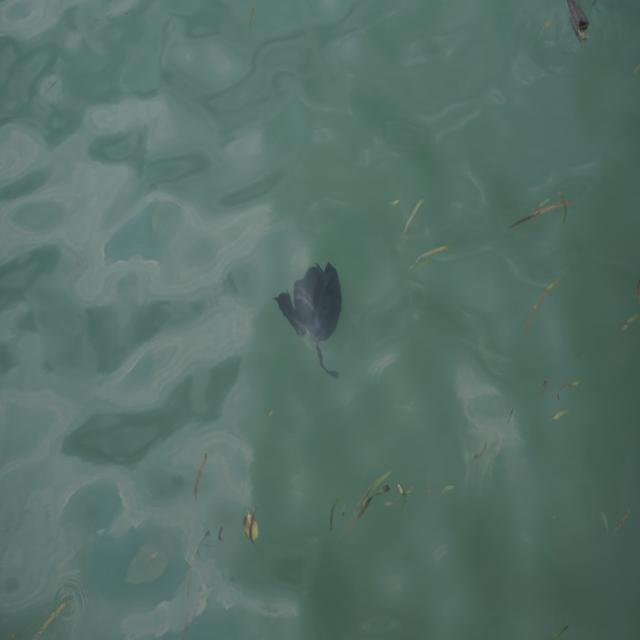Kantong Plastik: (274, 259, 350, 360)
